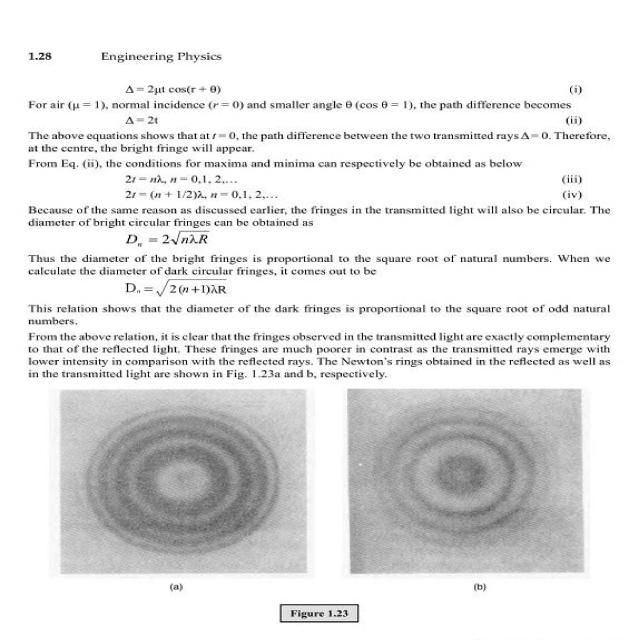diagram: (32, 379, 640, 628)
